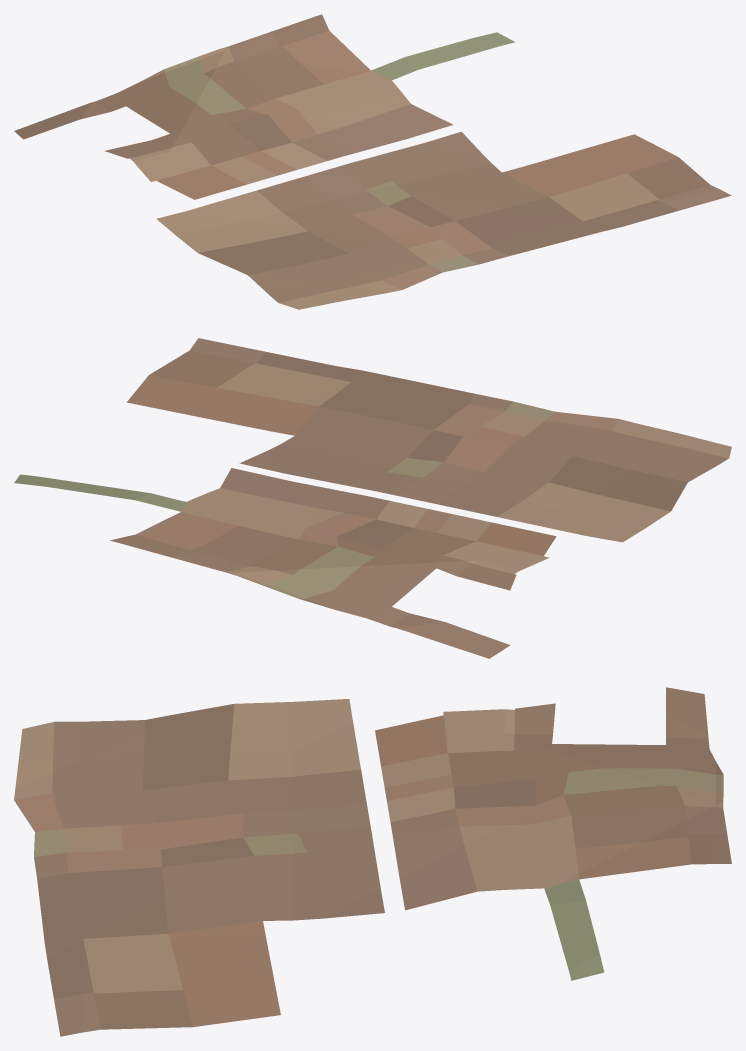
File: farm_7_4_soil.glb
The picture shows the model from 3 angles, top to bottom: view 1: azimuth 30°, elevation 25°; view 2: azimuth 150°, elevation 25°; view 3: azimuth 270°, elevation 25°; orthographic projection. The views are drawn at different scales.
Visible parts, largest first — view 1: geometry_0; view 2: geometry_0; view 3: geometry_0.
Part boxes in pixels (x1=…): geometry_0: x1=14, y1=14, x2=731, y2=309; geometry_0: x1=14, y1=338, x2=731, y2=658; geometry_0: x1=14, y1=687, x2=731, y2=1036.
Size of the model in its own units: 295 by 25.31 by 272.
